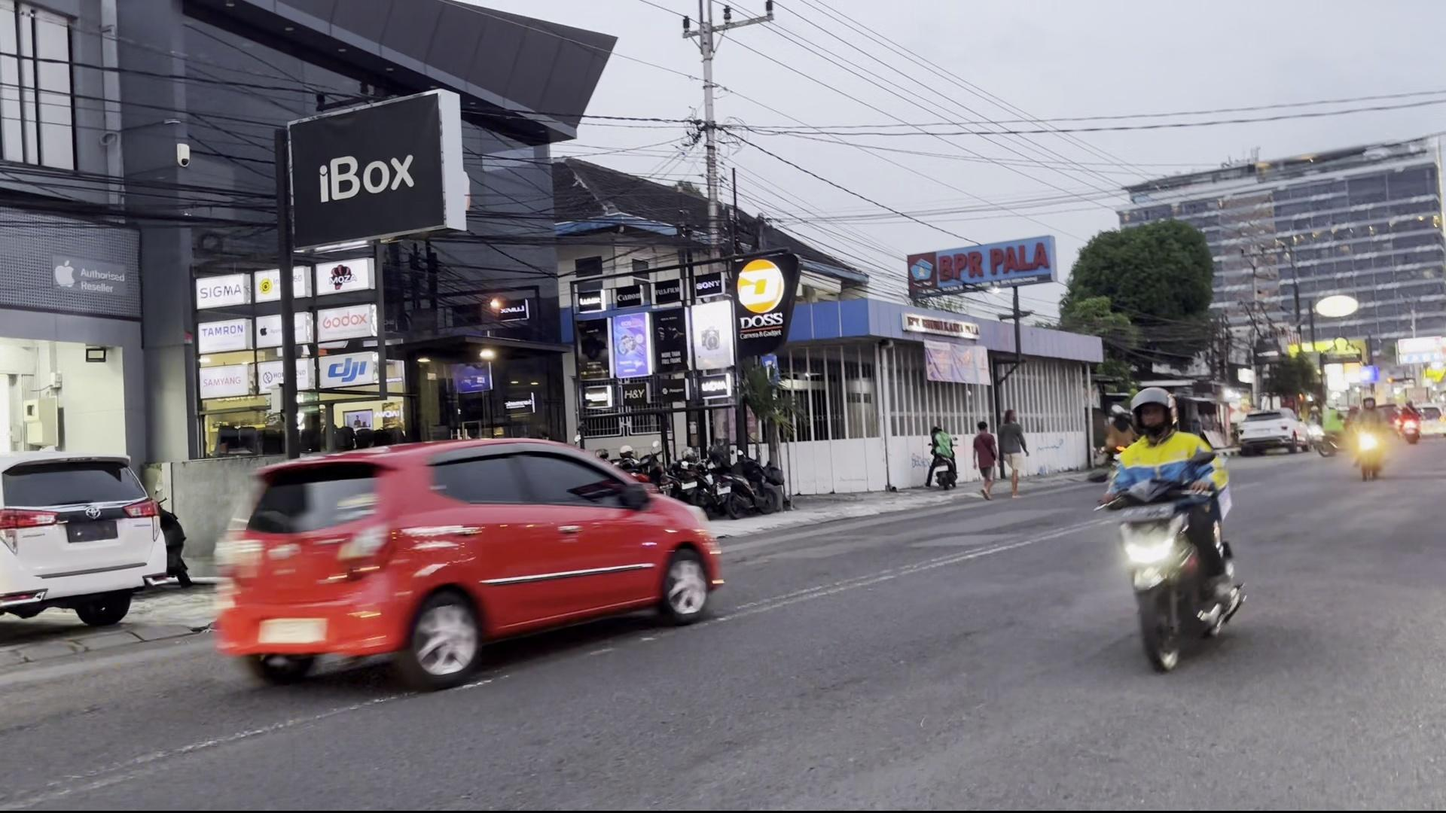helm: (1125, 388, 1185, 442)
riding: (1091, 383, 1254, 678)
